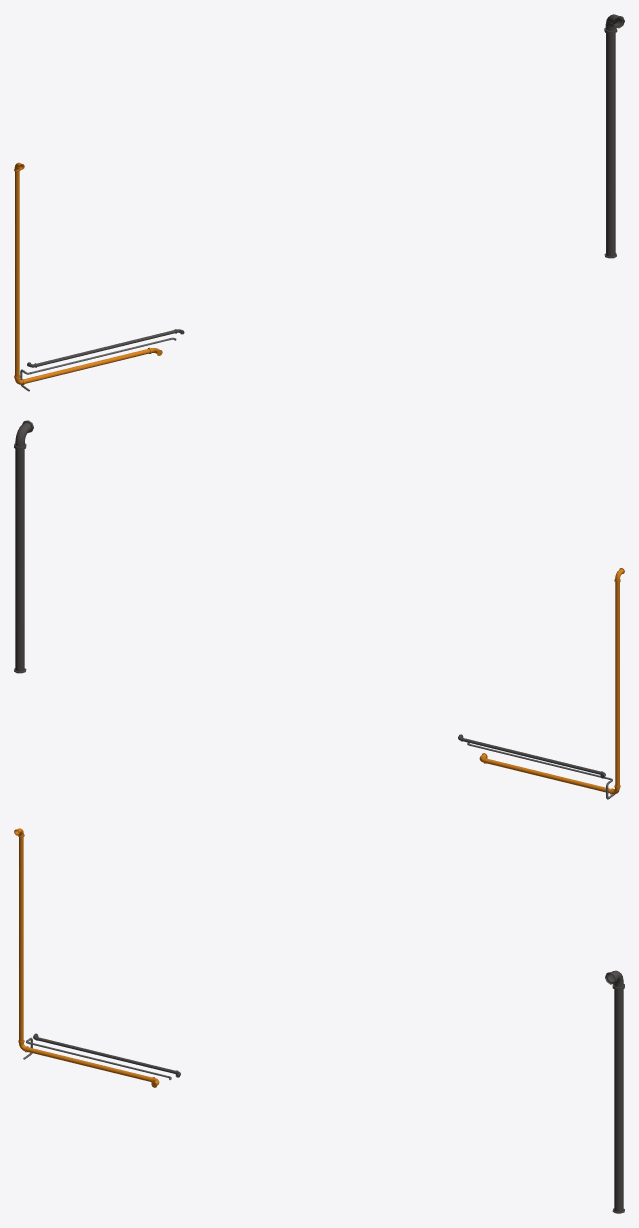
File: SM_H_Building_Tide_Stairs_07d_ATLAS.fbx
The picture shows the model from 3 angles, top to bottom: view 1: azimuth 30°, elevation 25°; view 2: azimuth 150°, elevation 25°; view 3: azimuth 330°, elevation 25°; orthographic projection.
Visible parts, largest first — view 1: SM_H_Building_Tide_Stairs_07d_ATLAS; view 2: SM_H_Building_Tide_Stairs_07d_ATLAS; view 3: SM_H_Building_Tide_Stairs_07d_ATLAS.
Part boxes in pixels (<box>): SM_H_Building_Tide_Stairs_07d_ATLAS: <box>14,14,624,391</box>; SM_H_Building_Tide_Stairs_07d_ATLAS: <box>14,420,624,799</box>; SM_H_Building_Tide_Stairs_07d_ATLAS: <box>14,828,624,1213</box>.
Size of the model in its own units: 3430 by 115 by 1329.
